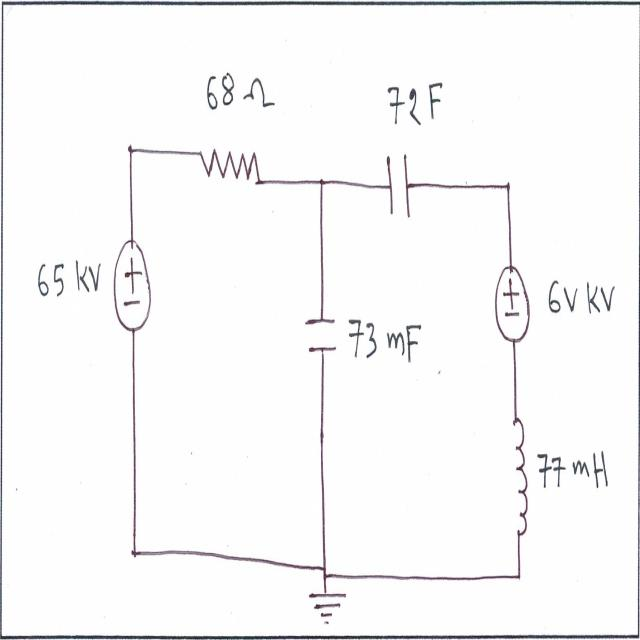capacitor: (382, 141, 414, 225), (302, 304, 341, 366)
ground: (305, 581, 351, 636)
inductor: (505, 400, 530, 549)
resistor: (195, 139, 267, 193)
voltage_source: (109, 236, 152, 344), (489, 260, 533, 346)
